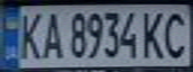3: (103, 9, 124, 58)
4: (118, 8, 142, 60)
8: (63, 8, 87, 60)
9: (84, 8, 106, 59)
A: (36, 8, 66, 61)
C: (160, 8, 193, 60)
K: (15, 8, 45, 61), (139, 8, 169, 60)
